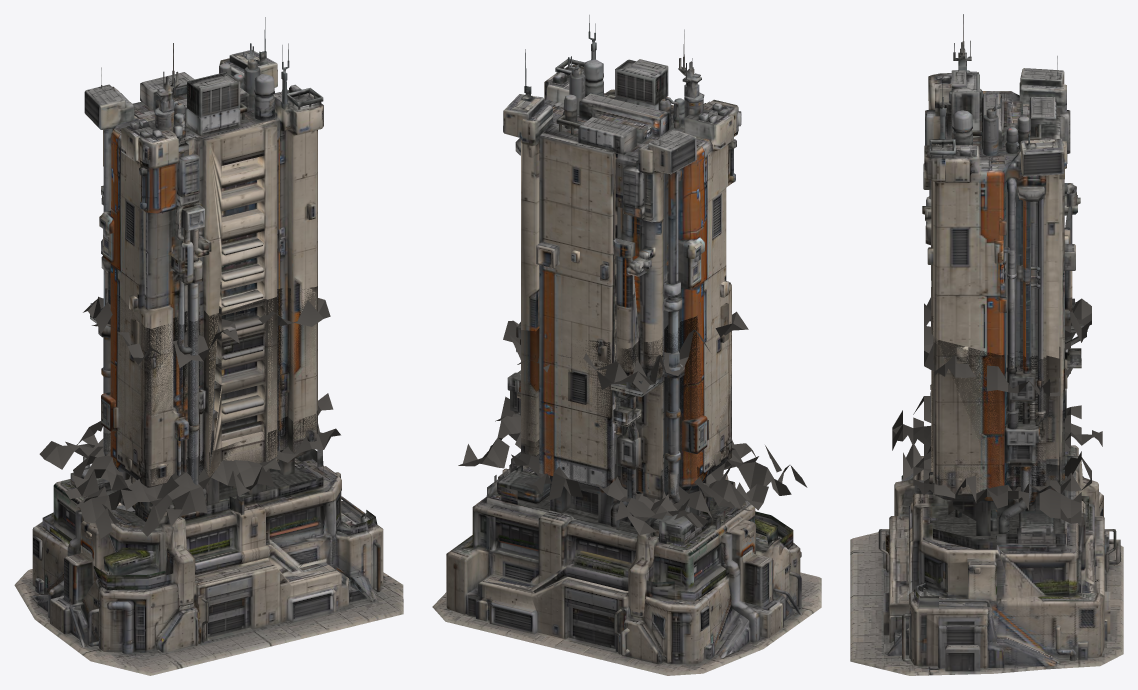
File: thap_cong_nghiep.glb
3 views of the same model, side by side, from view 1: azimuth 30°, elevation 25°; view 2: azimuth 150°, elevation 25°; view 3: azimuth 270°, elevation 25° (orthographic).
Parts seen in each view (by area): view 1: do_1, nguyen, do_2; view 2: nguyen, do_1, do_2; view 3: do_1, nguyen, do_2.
Boxes of the visible parts, box(x1,y1,x2,y2) form: do_1: box(14, 385, 403, 675); nguyen: box(84, 17, 323, 481); do_2: box(83, 286, 330, 485); nguyen: box(503, 15, 741, 487); do_1: box(432, 396, 821, 675); do_2: box(503, 274, 748, 506); do_1: box(850, 396, 1123, 675); nguyen: box(922, 14, 1080, 485); do_2: box(924, 297, 1091, 500).
Size of the model in its own units: 51.57 by 90 by 39.53.
Materials: 2 (1 with a texture image).
